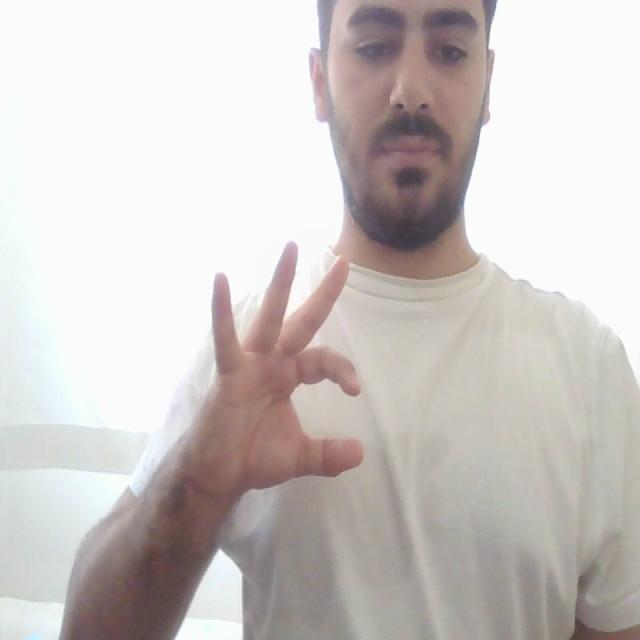Tuvalet: (158, 218, 390, 517)
